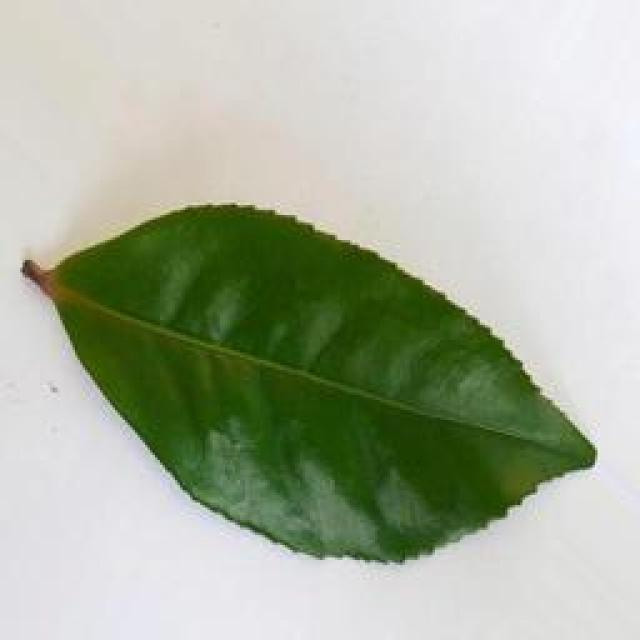Healthy: (24, 196, 607, 572)
